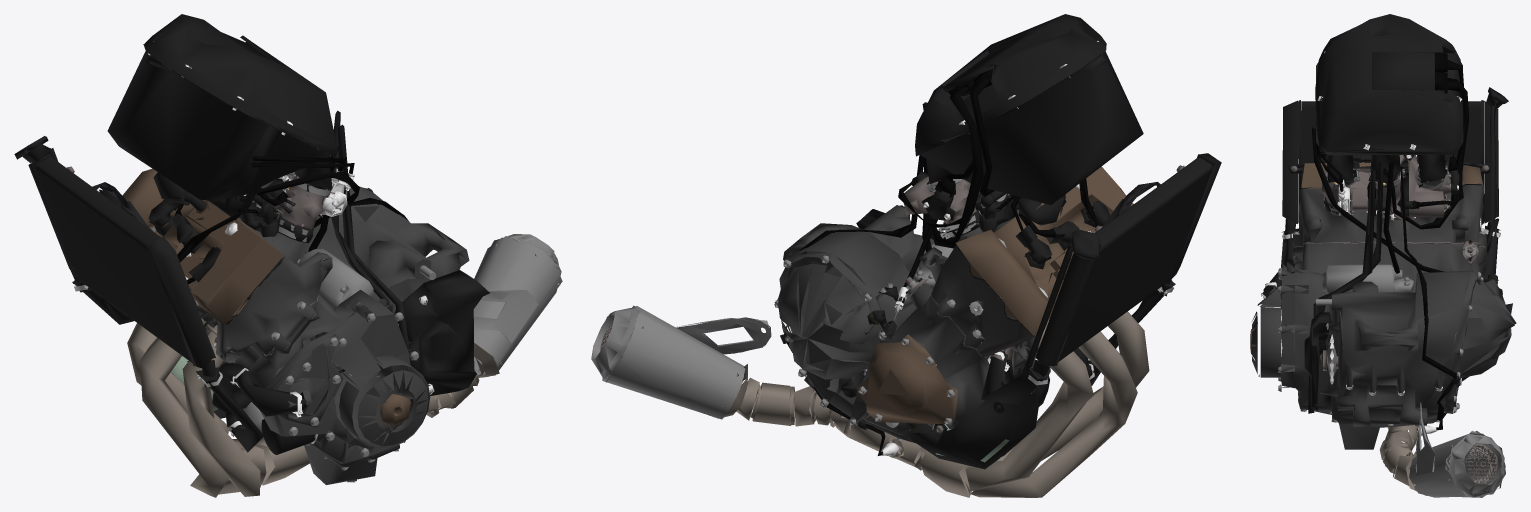
Rendered from eng-m-triple-765.glb.
3 renders of one model, left to right at view 1: azimuth 30°, elevation 25°; view 2: azimuth 150°, elevation 25°; view 3: azimuth 270°, elevation 25°, orthographic. The views are drawn at different scales.
Parts seen in each view (by area): view 1: p0; view 2: p0; view 3: p0.
Part boxes in pixels (left/top/right/bottom): p0: left=14, top=14, right=562, bottom=497; p0: left=591, top=14, right=1221, bottom=497; p0: left=1250, top=14, right=1516, bottom=497.
Bounding box in the file's own units: 0.9045 × 0.7962 × 0.4974.
